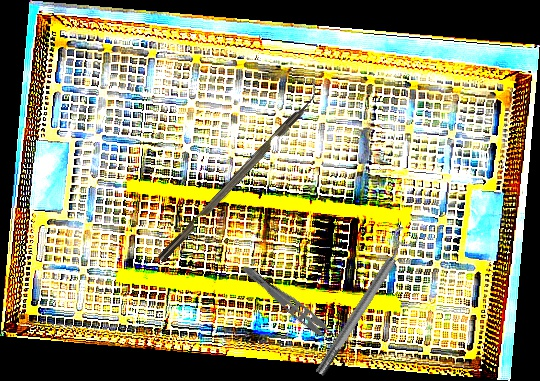Chopper: (149, 78, 328, 263)
Fixation Ring: (306, 224, 422, 381)
Tissue Forceps: (235, 262, 344, 352)
